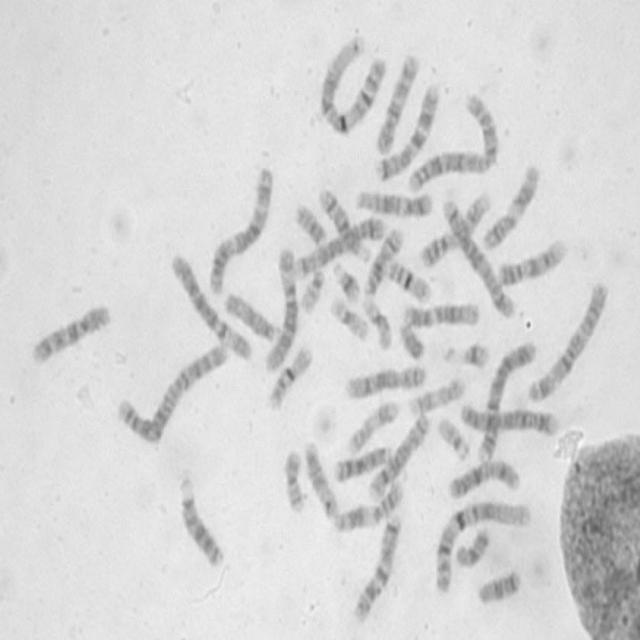A1: (431, 495, 533, 595), (315, 30, 388, 136)
A2: (112, 335, 230, 445), (404, 88, 502, 194)
A3: (525, 275, 611, 405), (205, 160, 276, 295)
B4: (474, 334, 538, 465), (456, 396, 561, 436)
B5: (439, 190, 517, 321), (290, 211, 386, 280)
C10: (27, 299, 113, 368), (372, 46, 421, 157)
C11: (478, 158, 542, 252), (330, 474, 407, 534)
C12: (353, 183, 434, 219), (399, 295, 482, 330)
C6: (167, 248, 254, 362), (261, 240, 299, 373)
C7: (373, 78, 441, 182), (349, 508, 404, 624)
C8: (366, 407, 432, 502), (342, 358, 428, 401)
C9: (418, 187, 492, 270), (494, 231, 569, 289)
D13: (175, 469, 226, 569), (330, 439, 394, 483)
D14: (315, 182, 373, 264), (362, 224, 406, 298)
D15: (220, 286, 280, 343), (301, 436, 340, 520)
E16: (264, 339, 314, 412), (382, 254, 433, 305)
E17: (345, 394, 401, 456), (405, 371, 467, 418)
E18: (474, 564, 522, 607), (453, 522, 491, 568)
F19: (326, 290, 372, 342), (360, 290, 394, 352)
F20: (281, 444, 307, 514), (292, 198, 328, 247)
G21: (443, 336, 491, 370), (330, 256, 362, 304)
G22: (435, 411, 471, 462), (297, 262, 326, 315)
X: (444, 453, 523, 500)
Y: (396, 316, 426, 360)
